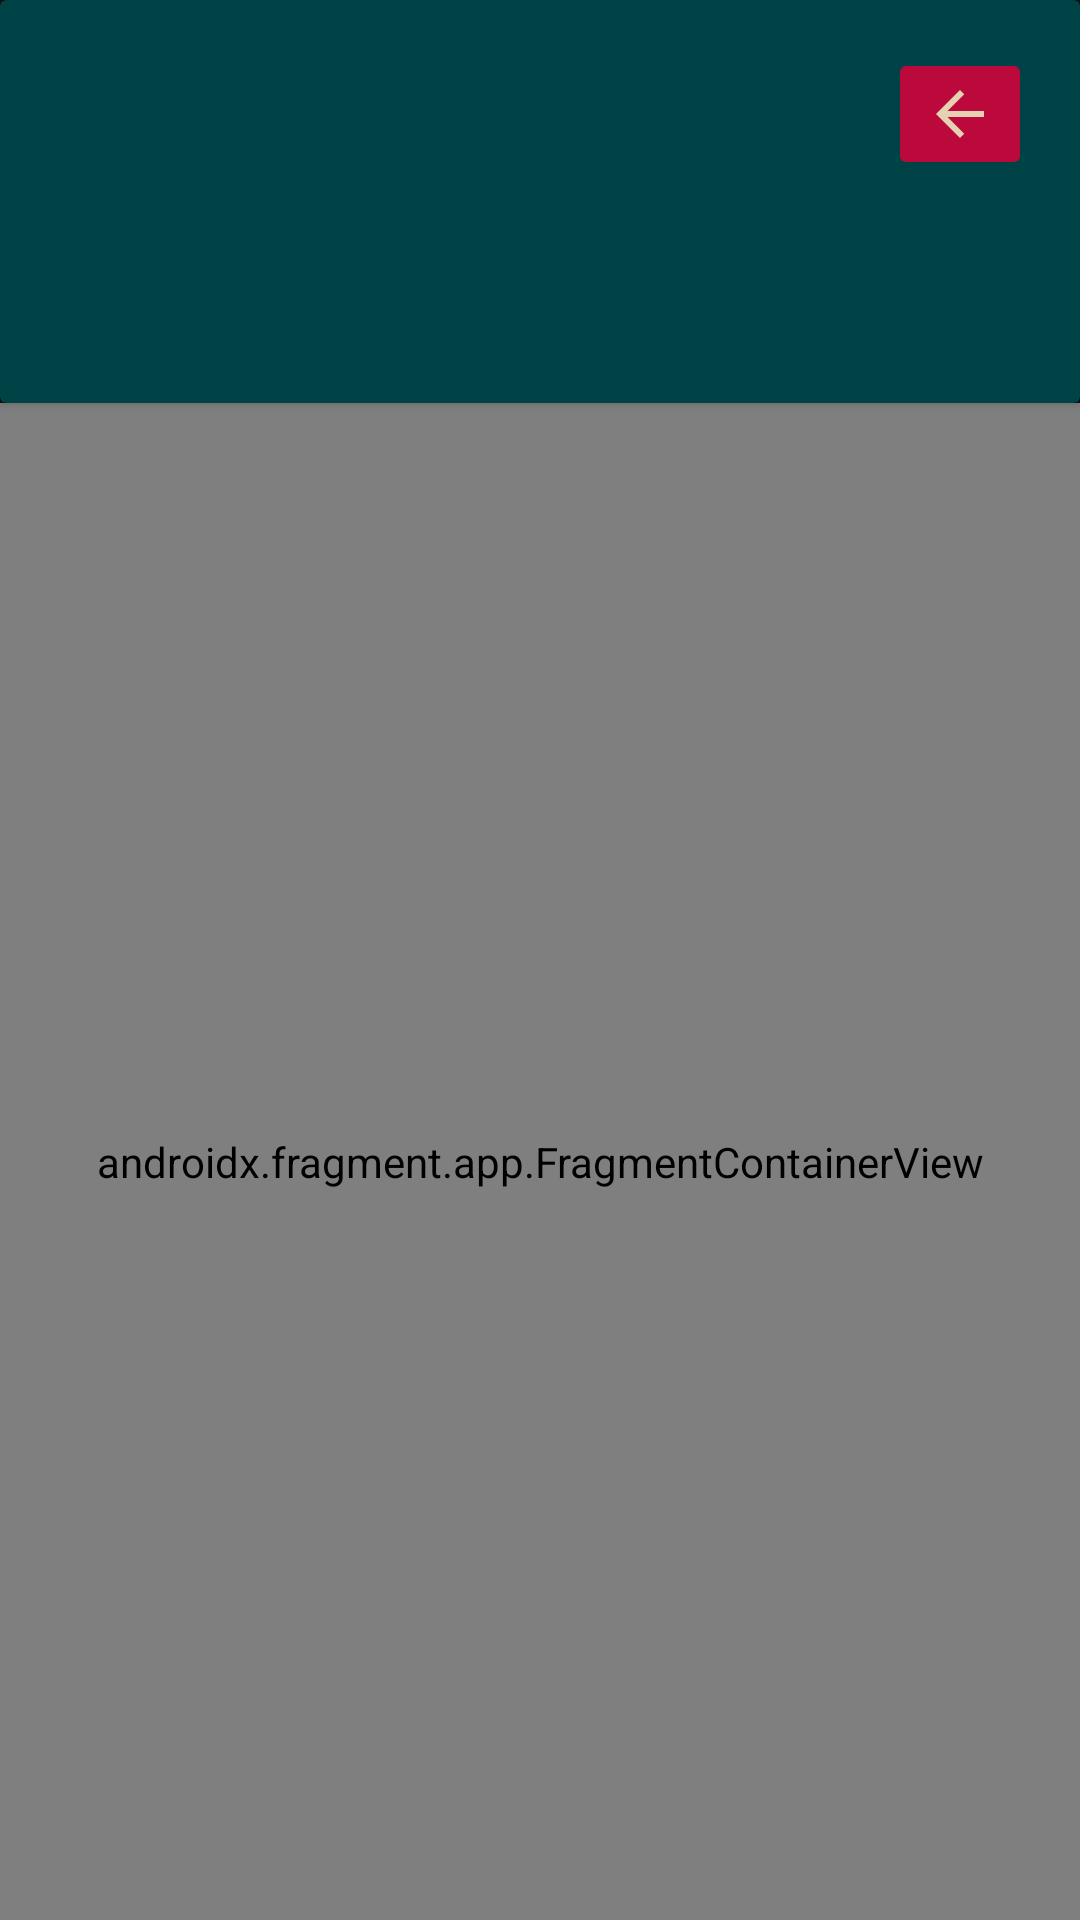

Point at icon controls on the screen. Image size 1080x1920, points as (x=x, y=y).
arrow back: (x=960, y=114)
